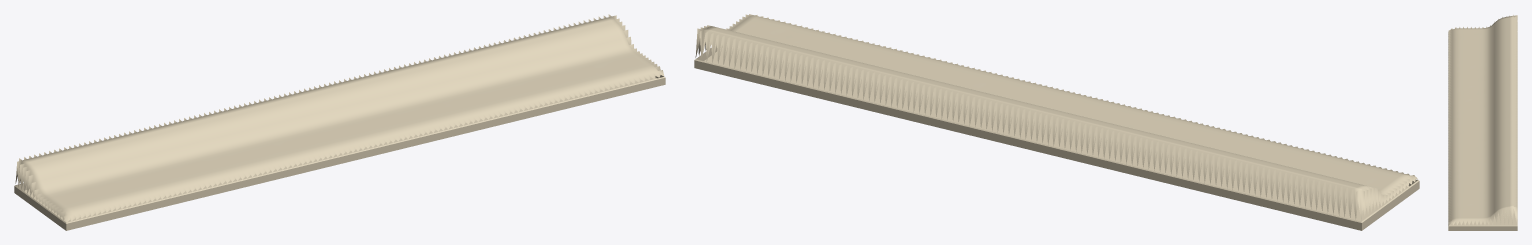
Rendered from mahsulot.glb.
3 views of the same model, side by side, from view 1: azimuth 30°, elevation 25°; view 2: azimuth 150°, elevation 25°; view 3: azimuth 270°, elevation 25° (orthographic). The views are drawn at different scales.
Visible parts, largest first — view 1: mahsulot; view 2: mahsulot; view 3: mahsulot.
Part boxes in pixels (x1=…): mahsulot: x1=14, y1=14, x2=665, y2=230; mahsulot: x1=694, y1=14, x2=1419, y2=230; mahsulot: x1=1448, y1=15, x2=1517, y2=230.
Size of the model in its own units: 1.2 by 0.065 by 0.18.
